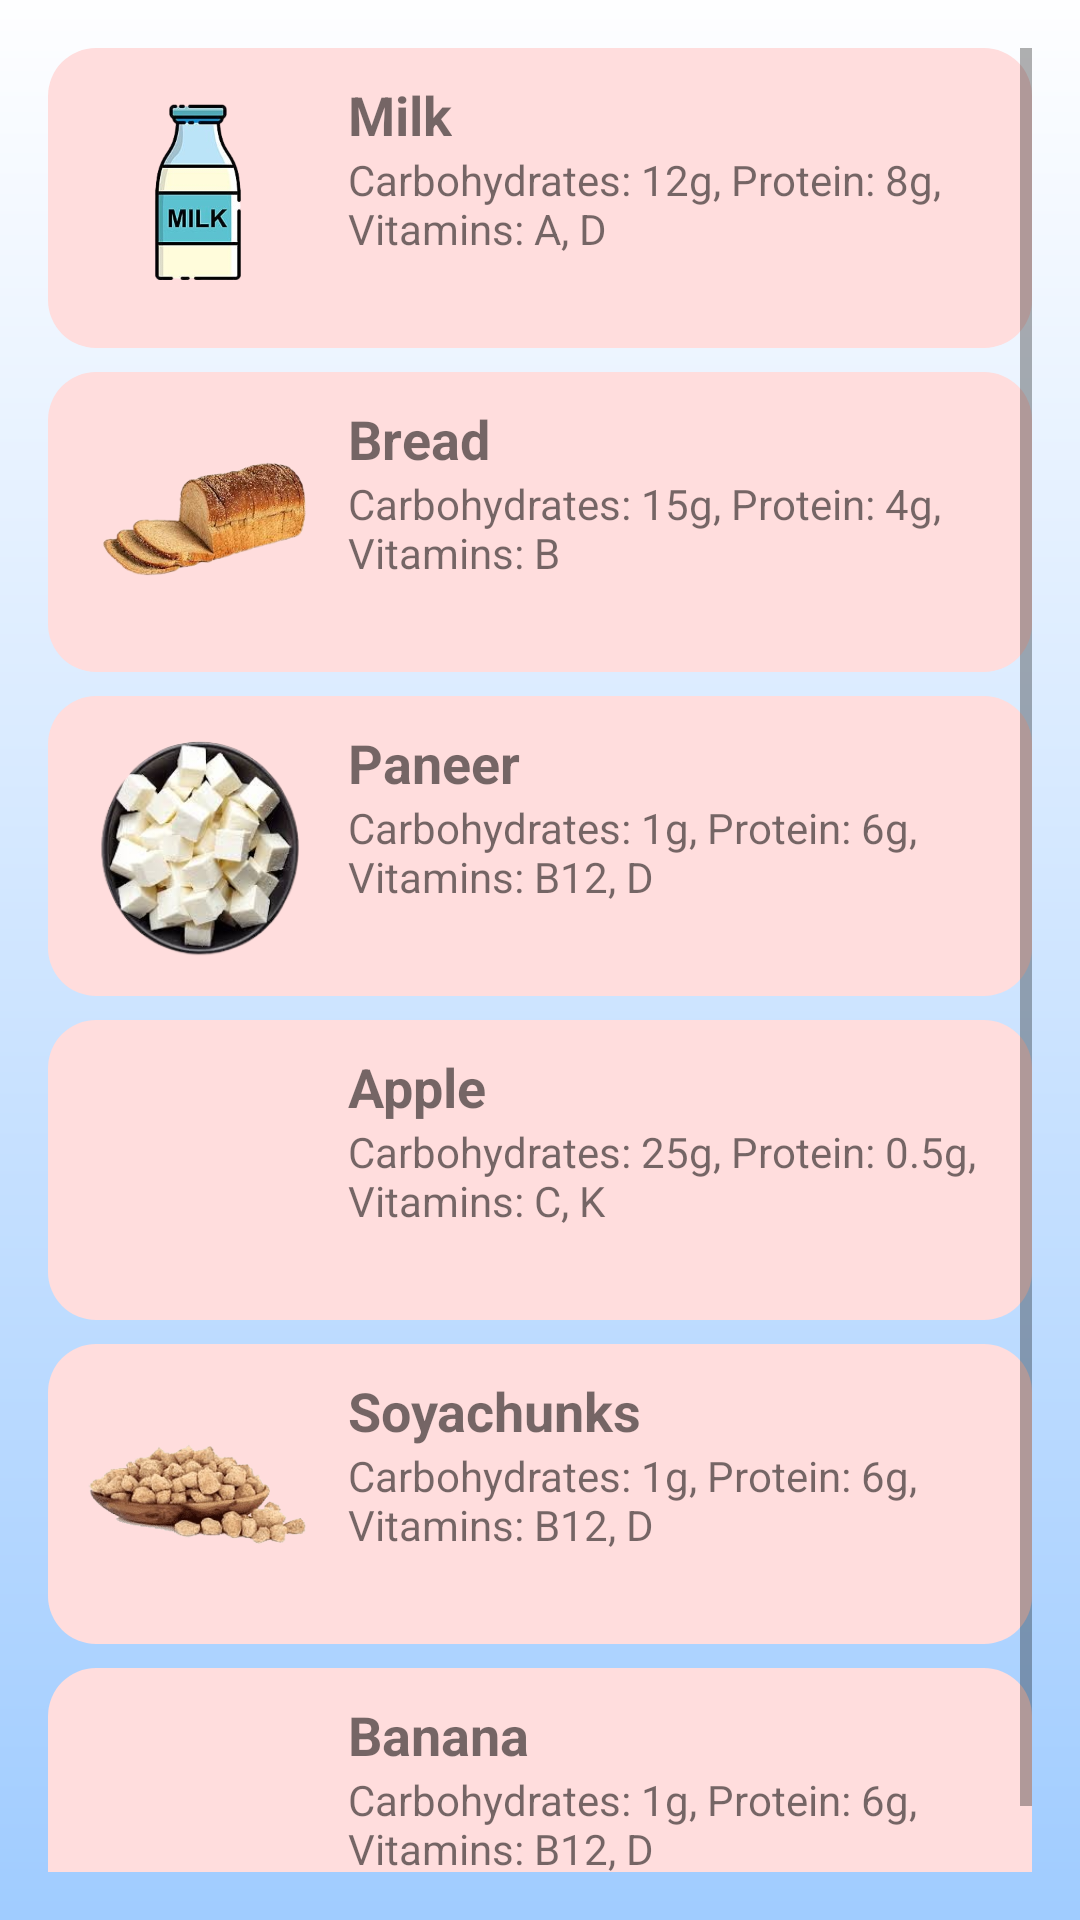

Screen size 1080×1920. Icon name, then its box in pixels as [x1=x1, y1=y1, x2=x2, y2=y2]:
removebgbrad: [x1=103, y1=463, x2=306, y2=575]
removebgsoya: [x1=90, y1=1446, x2=305, y2=1543]
